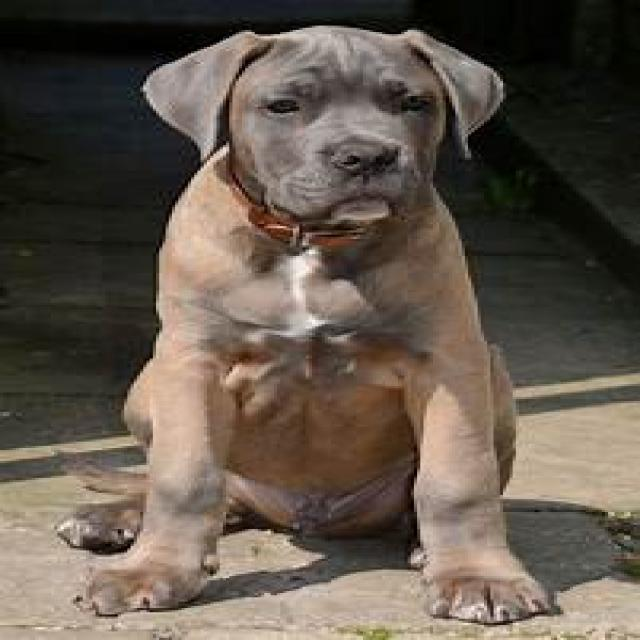KOPEK: (68, 27, 611, 620)
